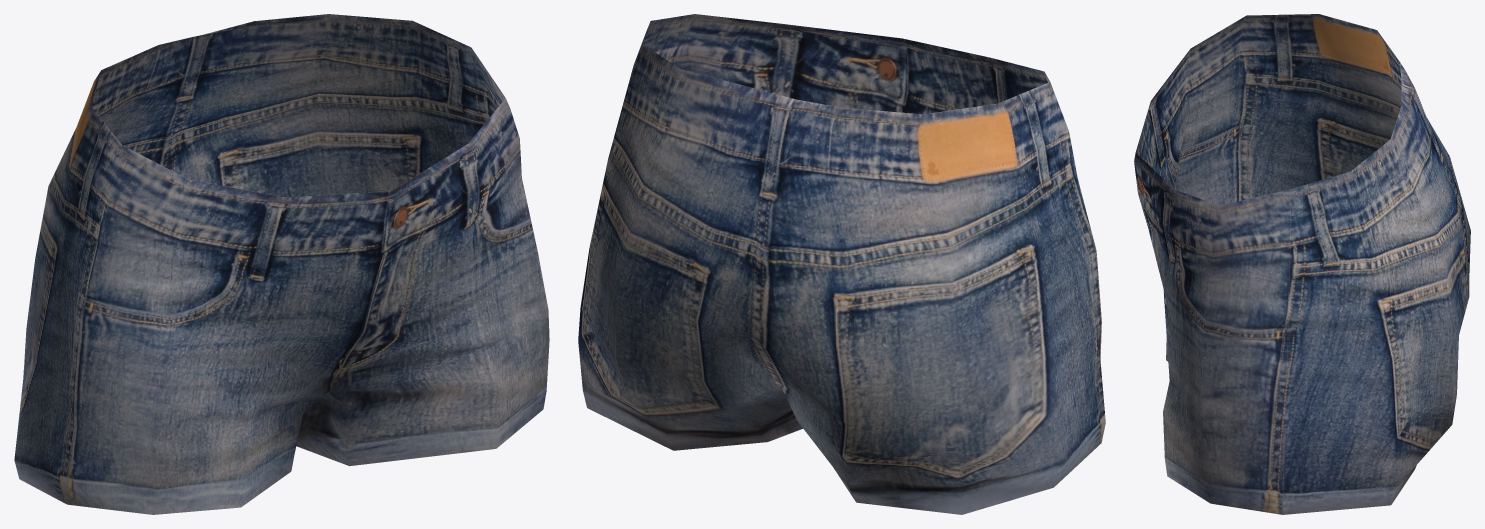
The model's file is Hotpants.fbx.
3 renders of one model, left to right at view 1: azimuth 30°, elevation 25°; view 2: azimuth 150°, elevation 25°; view 3: azimuth 270°, elevation 25°, orthographic. The views are drawn at different scales.
Visible parts, largest first — view 1: Hotpants_139.Shape; view 2: Hotpants_139.Shape; view 3: Hotpants_139.Shape.
Boxes of the visible parts, x1,y1,x2,y2 form: Hotpants_139.Shape: (14, 14, 549, 514); Hotpants_139.Shape: (578, 14, 1105, 514); Hotpants_139.Shape: (1134, 14, 1470, 514).
Size of the model in its own units: 40.45 by 30.16 by 26.77.
1 material, 1 textured.
